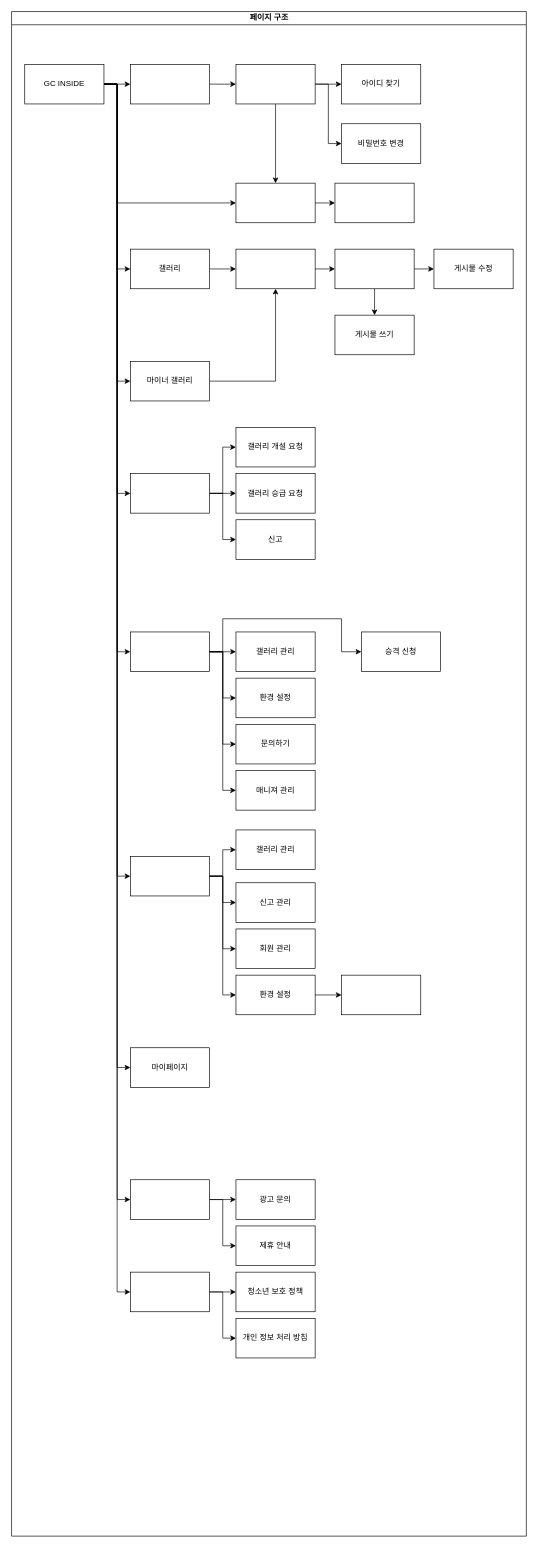
Some shapes in this 538 by 1548 pixel diagram are drawn without their labels. Each missing label, with the box of its shape:
LOGIN: (235, 64, 315, 104)
게시물 보기: (334, 248, 414, 289)
고객 센터: (130, 473, 210, 513)
배너 관리: (341, 974, 421, 1015)
사이트 관리자: (130, 856, 210, 896)
약관: (235, 182, 315, 223)
이용 약관: (130, 1271, 210, 1312)
커퓨니티 관리자: (130, 631, 210, 672)
해당 갤러리 게시물 리스트: (235, 248, 315, 289)
회사소개: (130, 1179, 210, 1219)
회원: (130, 64, 210, 104)
회원가입: (334, 182, 414, 223)
